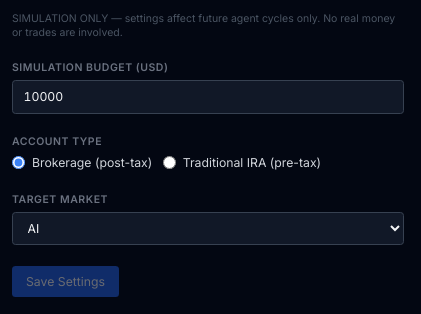
Test: SettingsPanel › save button enabled after changing budget
Replace the text in the number field named "Simulation budget" with "25000": (208, 97) [12, 80, 404, 114]
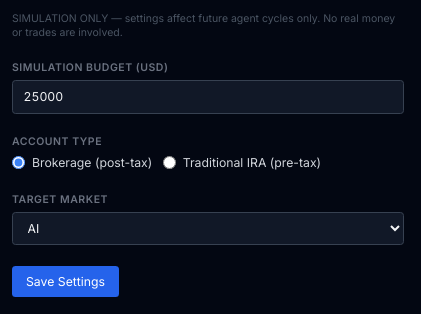
expect the button "Save Settings" is enabled: met, box [12, 266, 119, 297]
